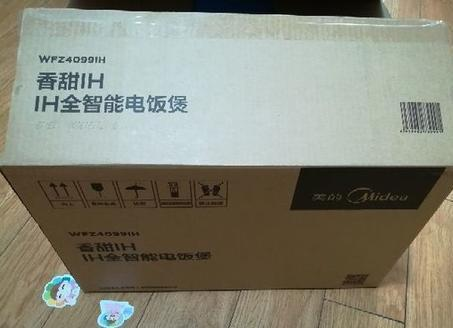cardboard: (4, 2, 453, 293)
